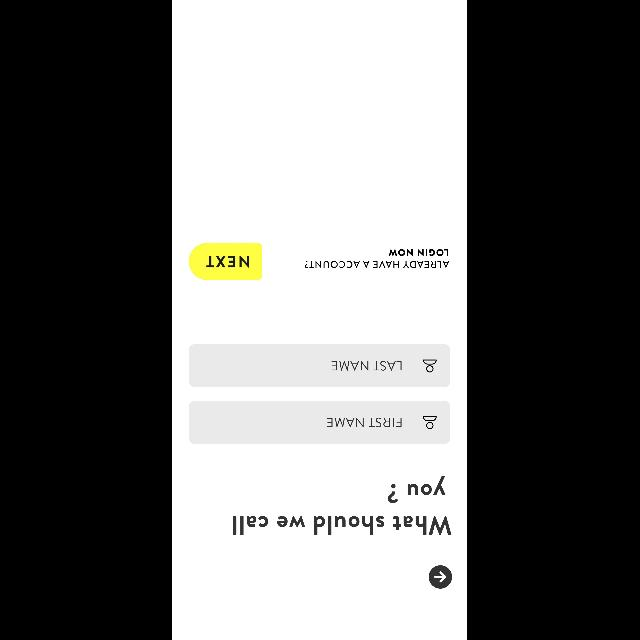icon: (430, 566, 452, 588), (424, 416, 438, 429), (424, 360, 438, 372)
input: (189, 344, 451, 388), (189, 401, 451, 444)
text: (233, 476, 452, 534), (306, 260, 450, 268), (328, 417, 402, 427), (332, 361, 402, 371), (389, 248, 448, 256)
textbutton: (190, 242, 262, 280)
